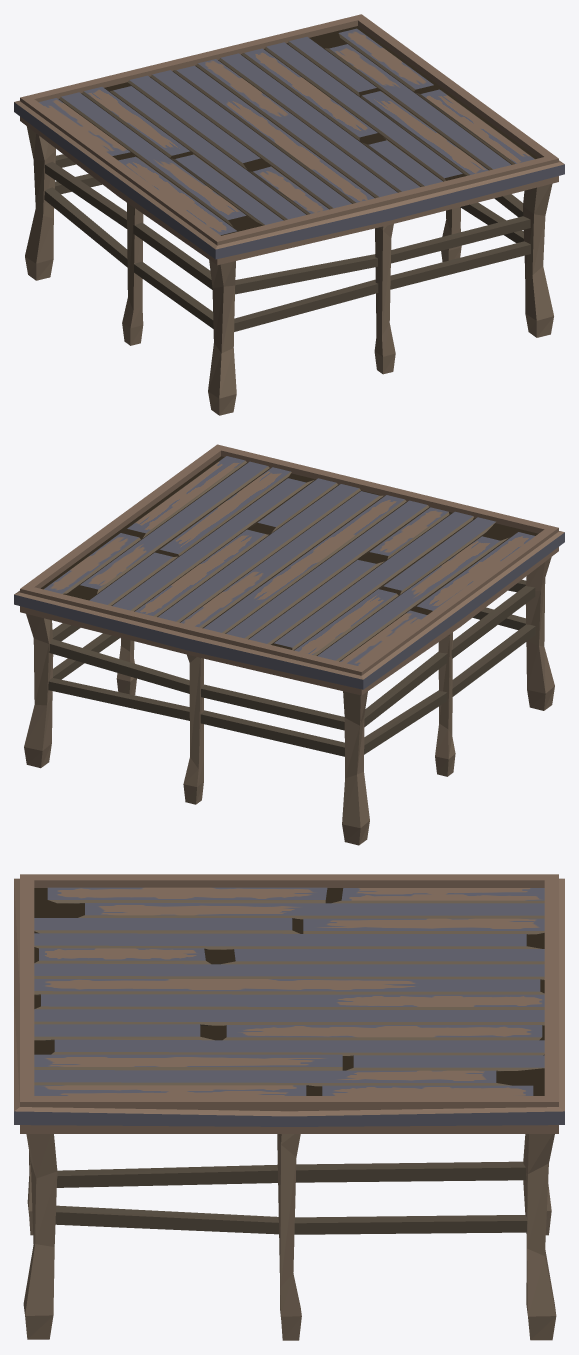
Rendered from SM_Bld_Shanty_Base_Stilts_02.glb.
3 views of the same model, one above another, from view 1: azimuth 30°, elevation 25°; view 2: azimuth 150°, elevation 25°; view 3: azimuth 270°, elevation 25° (orthographic). The views are drawn at different scales.
Parts seen in each view (by area): view 1: SM_Bld_Shanty_Base_Stilts_02_part00; view 2: SM_Bld_Shanty_Base_Stilts_02_part00; view 3: SM_Bld_Shanty_Base_Stilts_02_part00.
Part boxes in pixels (x1,y1,x2,y2): SM_Bld_Shanty_Base_Stilts_02_part00: [14, 14, 564, 415]; SM_Bld_Shanty_Base_Stilts_02_part00: [14, 444, 564, 845]; SM_Bld_Shanty_Base_Stilts_02_part00: [14, 874, 564, 1340].
Size of the model in its own units: 5.11 by 2.47 by 5.11.
1 material, 1 textured.
